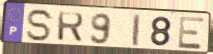8: (150, 15, 173, 48)
9: (89, 12, 113, 45)
E: (177, 15, 207, 51)
I: (132, 13, 141, 48)
R: (56, 11, 85, 44)
S: (26, 8, 56, 43)
